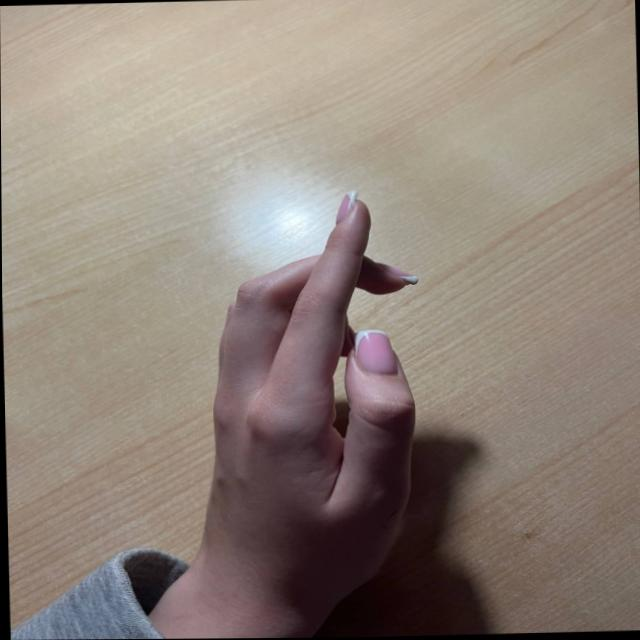b: (192, 186, 455, 567)
